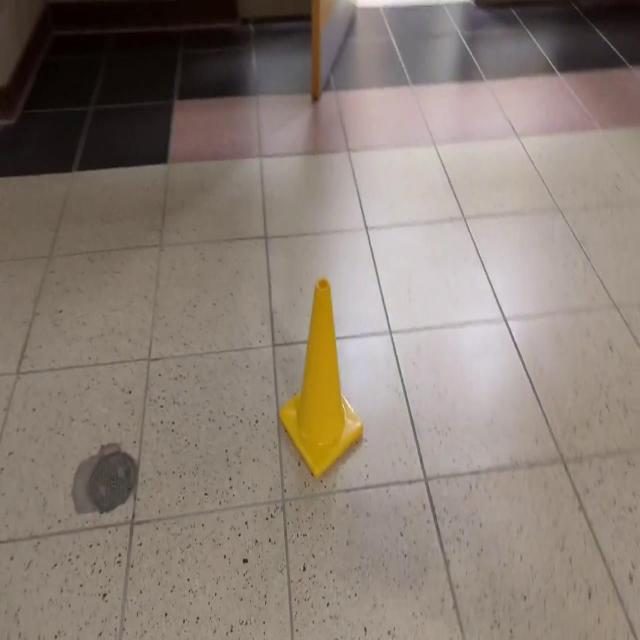frc_cone: (274, 270, 366, 492)
